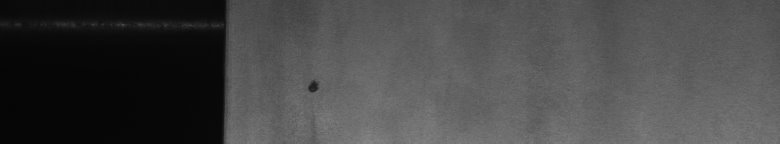fi: (300, 72, 325, 136)
